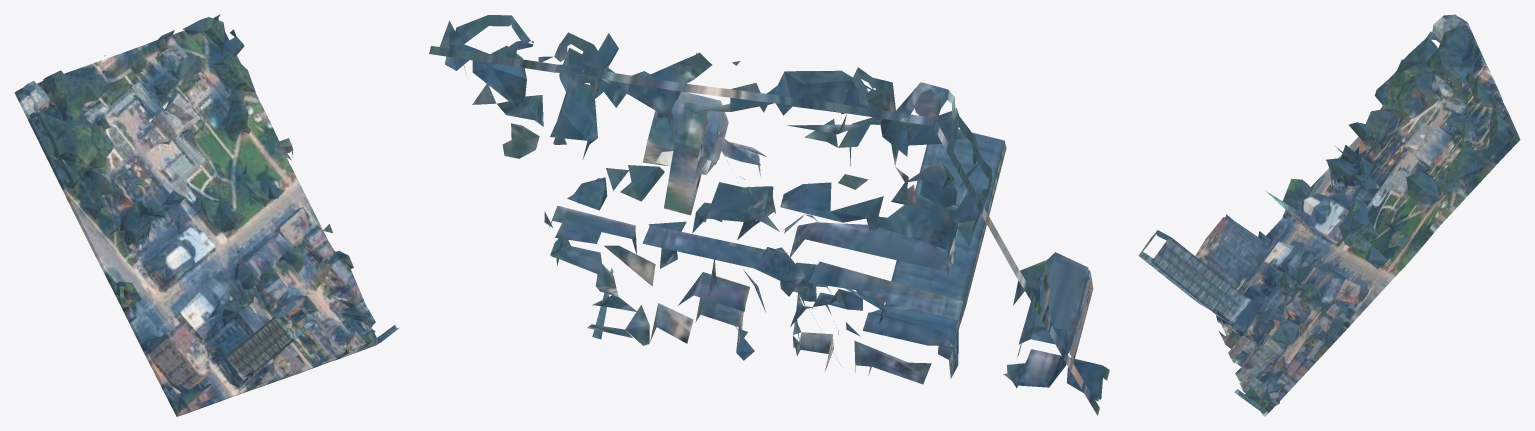
Rendered from AJVsH2zt_QkAaiPd4JbxWyCZf5rH_mlUa_lRhVVidHVw-VoIPKcxw_lLtbWQL6ZzykGpH07Eg1QTZA22GH5kiFmKCCqMOfx-qygGvO0OPrUjRUezB1YxXLUKV-OZzdYOsSz0eQVQ977Cr6SM2CVV5WriiGlt8ySmUA.glb.
3 renders of one model, left to right at view 1: azimuth 30°, elevation 25°; view 2: azimuth 150°, elevation 25°; view 3: azimuth 270°, elevation 25°, orthographic. The views are drawn at different scales.
Size of the model in its own units: 264 by 241 by 303.
2 materials, 2 textured.
